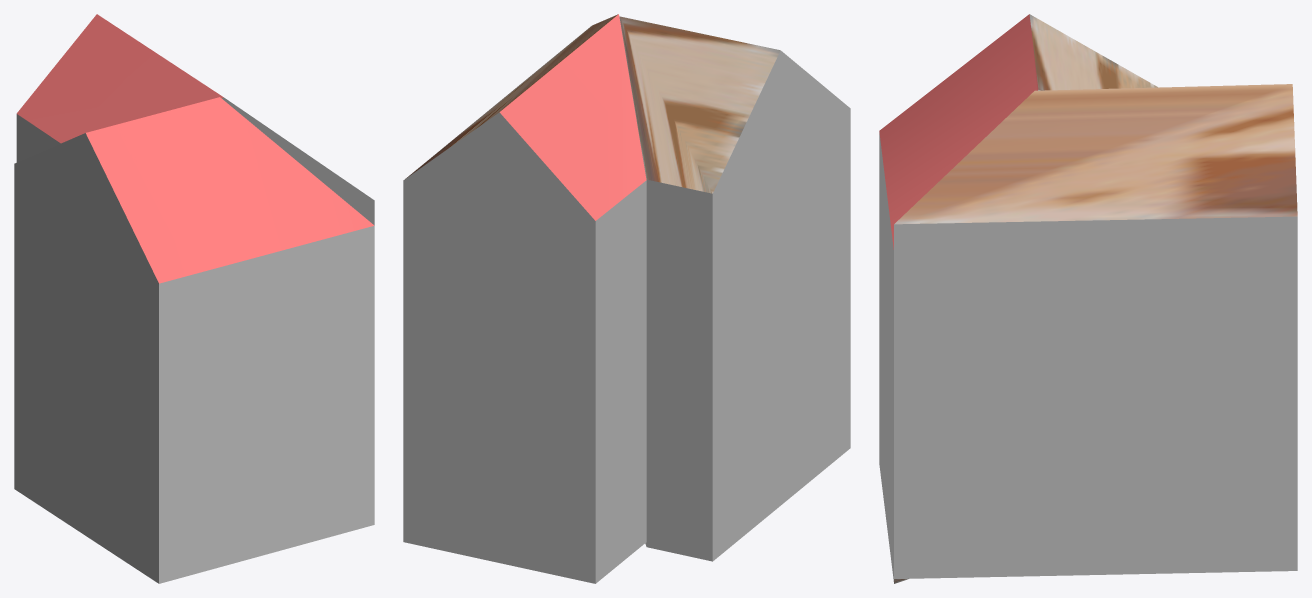
File: DEBW_0010007Tx8X.gltf
3 renders of one model, left to right at view 1: azimuth 30°, elevation 25°; view 2: azimuth 150°, elevation 25°; view 3: azimuth 270°, elevation 25°, orthographic. The views are drawn at different scales.
Visible parts, largest first — view 1: Z_UP; view 2: Z_UP; view 3: Z_UP.
Boxes of the visible parts, x1,y1,x2,y2 form: Z_UP: (14, 14, 374, 583); Z_UP: (403, 14, 850, 583); Z_UP: (879, 14, 1297, 583).
Size of the model in its own units: 12.13 by 20 by 16.97.
Materials: 3 (1 with a texture image).
